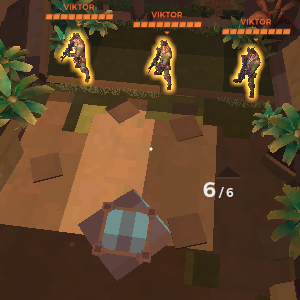model: (149, 33, 178, 95), (66, 29, 90, 87), (237, 45, 260, 97)
